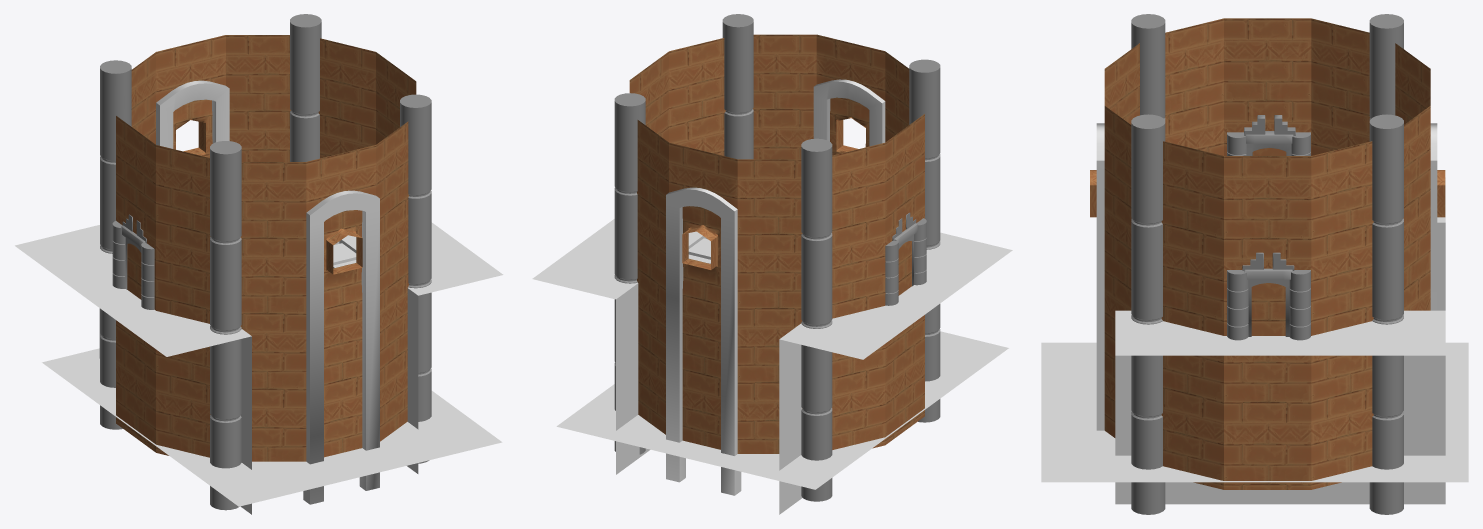
3 views of the same model, side by side, from view 1: azimuth 30°, elevation 25°; view 2: azimuth 150°, elevation 25°; view 3: azimuth 270°, elevation 25° (orthographic). The views are drawn at different scales.
Visible parts, largest first — view 1: 3st_017, 3st_015, 3st_016, 3st_011, 3st_002, 3st_014, 3st_018, 3st_020, 3st_000, 3st_021, 3st_003, 3st_023 (+18 smaller); view 2: 3st_012, 3st_013, 3st_023, 3st_010, 3st_003, 3st_014, 3st_020, 3st_018, 3st_019, 3st_002, 3st_001, 3st_016 (+19 smaller); view 3: 3st_022, 3st_021, 3st_019, 3st_001, 3st_000, 3st_014, 3st_013, 3st_015, 3st_018, 3st_020, 3st_026, 3st_040 (+23 smaller).
Boxes of the visible parts, x1,y1,x2,y2 form: 3st_017: [240, 162, 306, 461]; 3st_015: [156, 145, 210, 457]; 3st_016: [306, 145, 375, 457]; 3st_011: [303, 190, 379, 504]; 3st_002: [210, 141, 241, 510]; 3st_014: [116, 116, 155, 452]; 3st_018: [376, 121, 408, 441]; 3st_020: [226, 35, 290, 161]; 3st_000: [400, 94, 431, 463]; 3st_021: [318, 38, 375, 158]; 3st_003: [100, 60, 131, 429]; 3st_023: [156, 35, 225, 157]; 3st_012: [737, 159, 802, 453]; 3st_013: [832, 143, 885, 449]; 3st_023: [669, 142, 737, 449]; 3st_010: [666, 187, 741, 495]; 3st_003: [801, 138, 832, 501]; 3st_014: [885, 114, 924, 444]; 3st_020: [637, 120, 668, 434]; 3st_018: [753, 34, 816, 159]; 3st_019: [669, 38, 725, 155]; 3st_002: [909, 59, 940, 422]; 3st_001: [614, 93, 645, 454]; 3st_016: [816, 34, 885, 155]; 3st_022: [1224, 156, 1311, 489]; 3st_021: [1311, 141, 1373, 489]; 3st_019: [1161, 141, 1223, 489]; 3st_001: [1369, 114, 1403, 514]; 3st_000: [1131, 114, 1165, 514]; 3st_014: [1224, 18, 1311, 155]; 3st_013: [1311, 18, 1369, 155]; 3st_015: [1165, 18, 1223, 155]; 3st_018: [1104, 106, 1131, 437]; 3st_020: [1403, 106, 1430, 310]; 3st_026: [1227, 252, 1310, 340]; 3st_040: [1041, 435, 1147, 482].
Size of the model in its own units: 4398 by 4477 by 4457.
